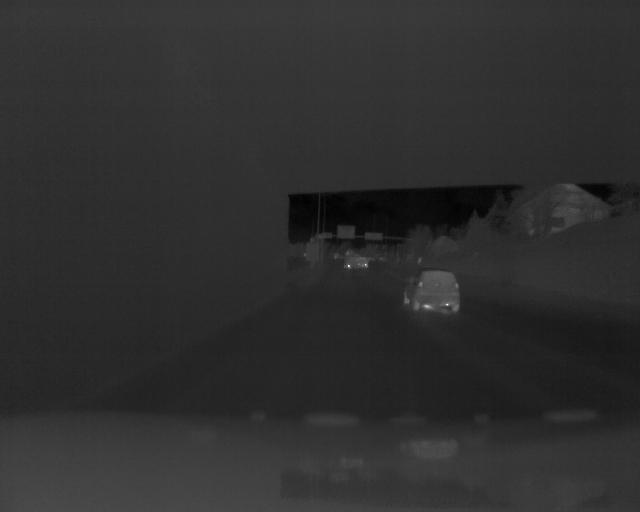car: (403, 266, 462, 315)
